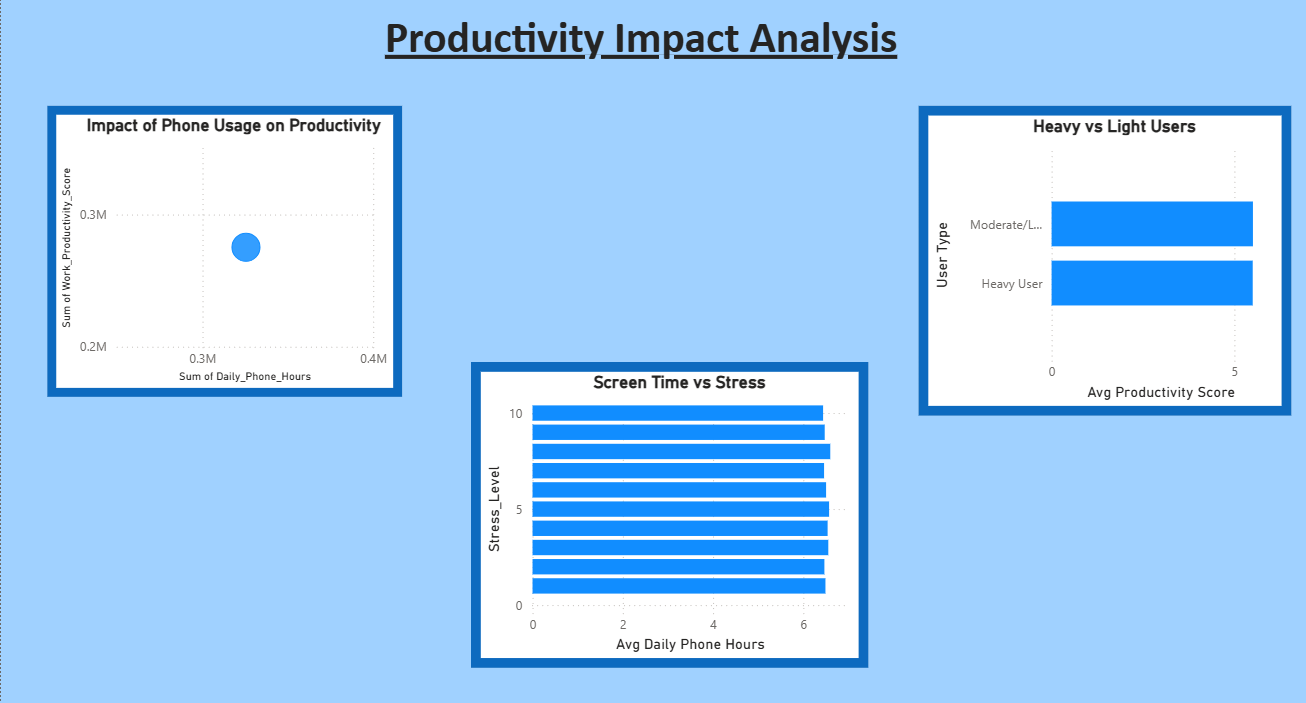

The dashboard page shown, as its layout file describes it:
{"tool":"powerbi","page":{"name":"Page 2","canvas":[1280,720],"ordinal":1},"visuals":[{"type":"textbox","box":[370.5,23.2,538,73.4],"z":0},{"type":"scatterChart","title":"Impact of Phone Usage on Productivity","fields":{"X":["Sum(Smartphone_Usage_Productivity_Dataset_50000.Daily_Phone_Hours)"],"Y":["Sum(Smartphone_Usage_Productivity_Dataset_50000.Work_Productivity_Score)"],"Size":["Sum(Smartphone_Usage_Productivity_Dataset_50000.Sleep_Hours)"]},"box":[45.2,121.1,347.3,284.9],"z":1000},{"type":"barChart","title":"Heavy vs Light Users","fields":{"Category":["Smartphone_Usage_Productivity_Dataset_50000.User Type"],"Y":["Smartphone_Usage_Productivity_Dataset_50000.Avg Productivity Score"]},"box":[897.6,121.1,364.4,303.3],"z":2000},{"type":"barChart","title":"Screen Time vs Stress","fields":{"Y":["Smartphone_Usage_Productivity_Dataset_50000.Avg Daily Phone Hours"],"Category":["Smartphone_Usage_Productivity_Dataset_50000.Stress_Level"]},"box":[459.8,371.7,388.9,299.6],"z":3000}]}

Visuals, with their boxes on the page's 1280x720 design canvas (x1, y1, x2, y2). These are canvas units, not pixel positions in the 1306x703 screenshot, which may show the page scaled, cropped or inside an application window:
textbox: select_region(370, 23, 908, 97)
"Impact of Phone Usage on Productivity" scatterChart: select_region(45, 121, 392, 406)
"Heavy vs Light Users" barChart: select_region(898, 121, 1262, 424)
"Screen Time vs Stress" barChart: select_region(460, 372, 849, 671)
